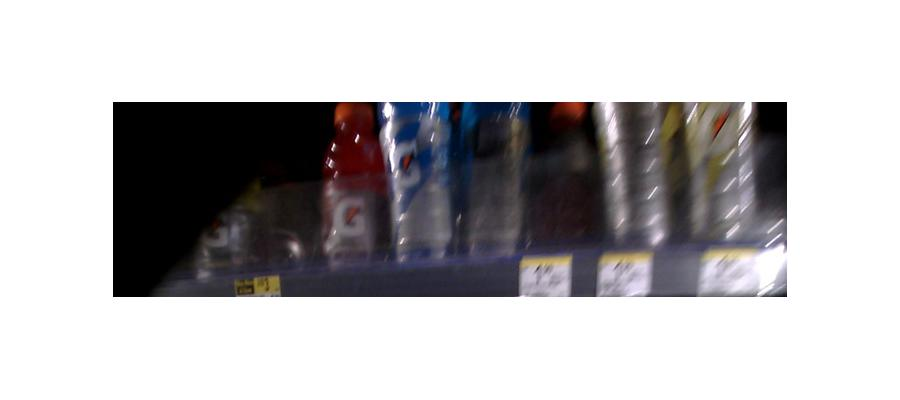bottle: (454, 96, 530, 255), (385, 97, 456, 266), (684, 96, 764, 243), (602, 102, 678, 250), (320, 99, 385, 267), (534, 99, 596, 250)
